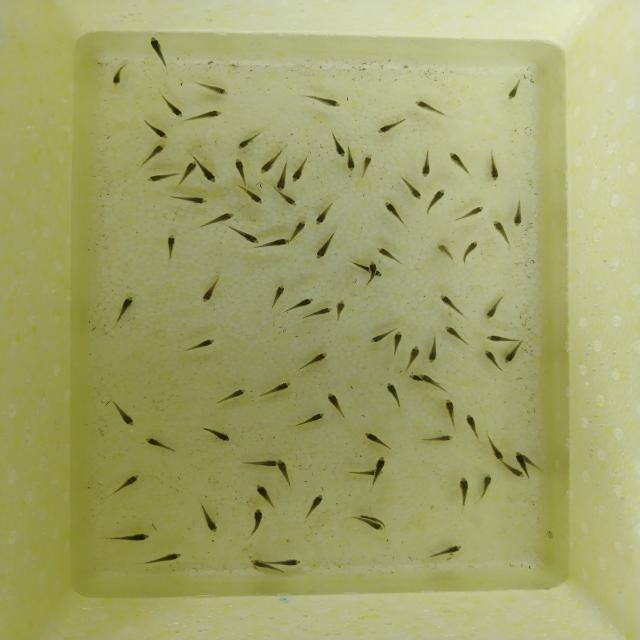fingerling: (109, 402, 137, 428), (144, 552, 182, 571), (143, 140, 171, 164), (447, 147, 470, 176), (317, 234, 338, 265), (230, 223, 260, 244), (114, 530, 156, 545), (436, 291, 462, 315), (401, 174, 424, 201), (274, 192, 308, 210), (238, 183, 267, 204), (301, 350, 333, 369), (507, 198, 526, 230), (114, 294, 134, 324), (177, 158, 202, 182), (213, 387, 248, 404), (141, 436, 174, 454), (453, 204, 484, 223), (412, 96, 440, 117), (199, 506, 220, 534), (258, 383, 290, 401), (162, 98, 187, 121), (426, 188, 448, 214), (290, 157, 309, 187), (105, 63, 126, 90), (483, 296, 503, 324), (440, 323, 468, 343), (253, 154, 276, 178), (204, 427, 233, 446), (306, 491, 328, 516), (144, 37, 165, 63), (204, 211, 236, 228), (310, 94, 342, 111), (200, 278, 220, 305), (378, 116, 408, 134), (109, 476, 139, 494), (366, 434, 393, 454), (235, 132, 263, 151), (486, 153, 502, 186), (296, 412, 329, 428), (197, 160, 218, 185), (146, 119, 171, 140), (486, 439, 507, 464), (268, 280, 288, 306), (492, 218, 510, 246), (502, 345, 526, 366), (382, 379, 402, 404), (324, 389, 344, 414), (427, 332, 442, 365), (314, 203, 332, 230), (438, 242, 459, 265), (255, 483, 276, 506), (172, 194, 212, 206), (420, 146, 435, 177), (459, 242, 480, 264), (483, 350, 502, 374), (231, 156, 250, 180), (191, 336, 219, 352), (342, 147, 358, 175), (426, 431, 452, 448), (381, 199, 403, 219), (238, 456, 278, 467), (288, 219, 312, 237), (365, 330, 389, 348), (277, 457, 293, 484), (331, 135, 349, 159), (195, 107, 222, 123), (477, 474, 492, 502), (432, 544, 466, 556), (507, 76, 524, 100), (485, 333, 519, 345), (444, 402, 459, 429), (249, 508, 267, 530), (420, 376, 448, 390), (407, 343, 424, 366), (464, 414, 480, 438), (375, 246, 399, 262), (273, 168, 289, 192), (286, 297, 320, 308), (263, 238, 294, 250), (457, 479, 472, 503), (360, 152, 374, 177), (202, 85, 235, 95), (244, 558, 276, 568), (335, 296, 348, 320), (504, 465, 526, 479), (392, 331, 404, 355), (347, 470, 388, 477), (142, 175, 177, 183), (275, 558, 306, 567), (166, 233, 177, 257), (371, 457, 389, 471), (313, 305, 332, 318), (364, 523, 388, 532), (367, 260, 376, 282), (514, 452, 524, 467), (405, 374, 423, 380)
